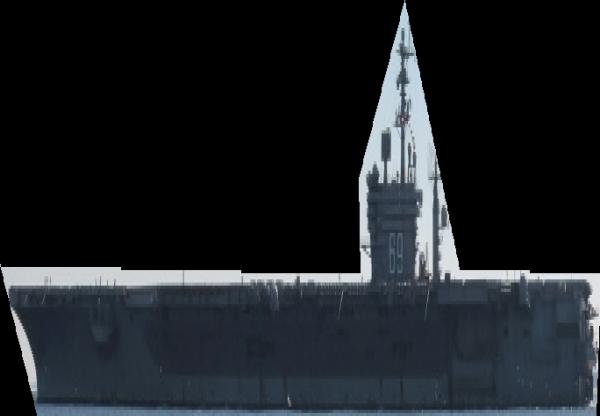Aircraft Carrier: (0, 1, 600, 416)
